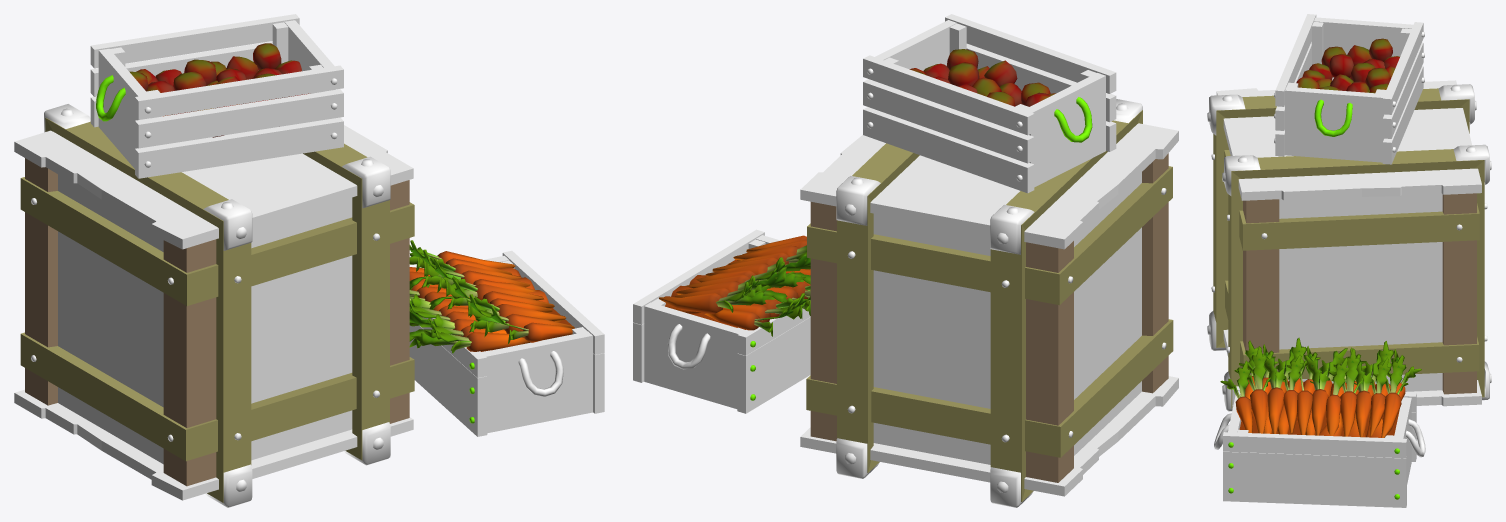
Rendered from crate_stack_goods.glb.
The picture shows the model from 3 angles, left to right: view 1: azimuth 30°, elevation 25°; view 2: azimuth 150°, elevation 25°; view 3: azimuth 270°, elevation 25°; orthographic projection. The views are drawn at different scales.
Visible parts, largest first — view 1: Cube017, Cylinder057, Cylinder018_1, Cylinder018, Cube017_1, Cylinder057_2; view 2: Cube017, Cylinder057, Cylinder018_1, Cylinder018, Cube017_1, Cylinder057_2; view 3: Cube017, Cylinder057, Cylinder018_1, Cylinder018, Cube017_1, Cylinder057_2.
Boxes of the visible parts, x1,y1,x2,y2 form: Cube017: (14, 118, 414, 502); Cylinder057: (90, 14, 343, 178); Cylinder018_1: (409, 250, 604, 436); Cylinder018: (409, 240, 574, 353); Cube017_1: (31, 104, 390, 507); Cylinder057_2: (129, 43, 308, 137); Cube017: (800, 110, 1178, 501); Cylinder057: (863, 14, 1116, 193); Cylinder018_1: (633, 229, 810, 413); Cylinder018: (659, 235, 810, 336); Cube017_1: (836, 99, 1166, 507); Cylinder057_2: (909, 49, 1055, 106); Cube017: (1213, 80, 1484, 408); Cylinder057: (1275, 14, 1423, 164); Cylinder018_1: (1214, 386, 1425, 507); Cylinder018: (1220, 337, 1421, 437); Cube017_1: (1207, 84, 1491, 411); Cylinder057_2: (1296, 38, 1399, 93).
Bounding box in the file's own units: 1.54 × 1.17 × 0.9562.
